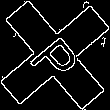P_NE: (24, 25, 86, 85)
